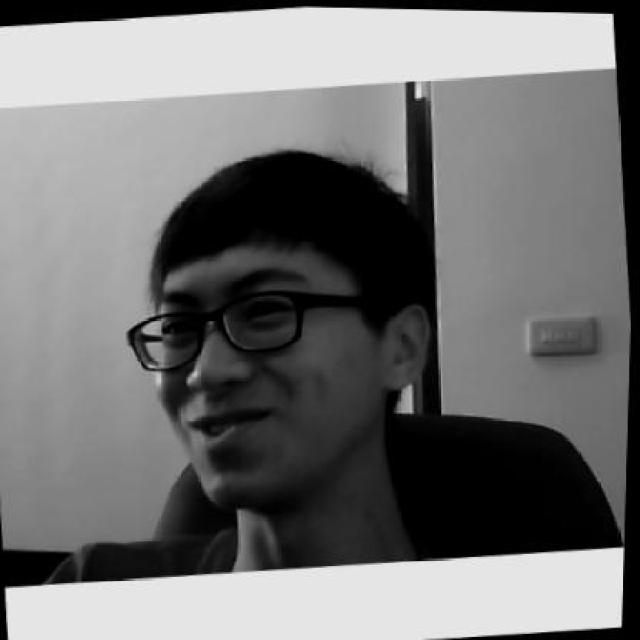attentif: (109, 134, 448, 518)
